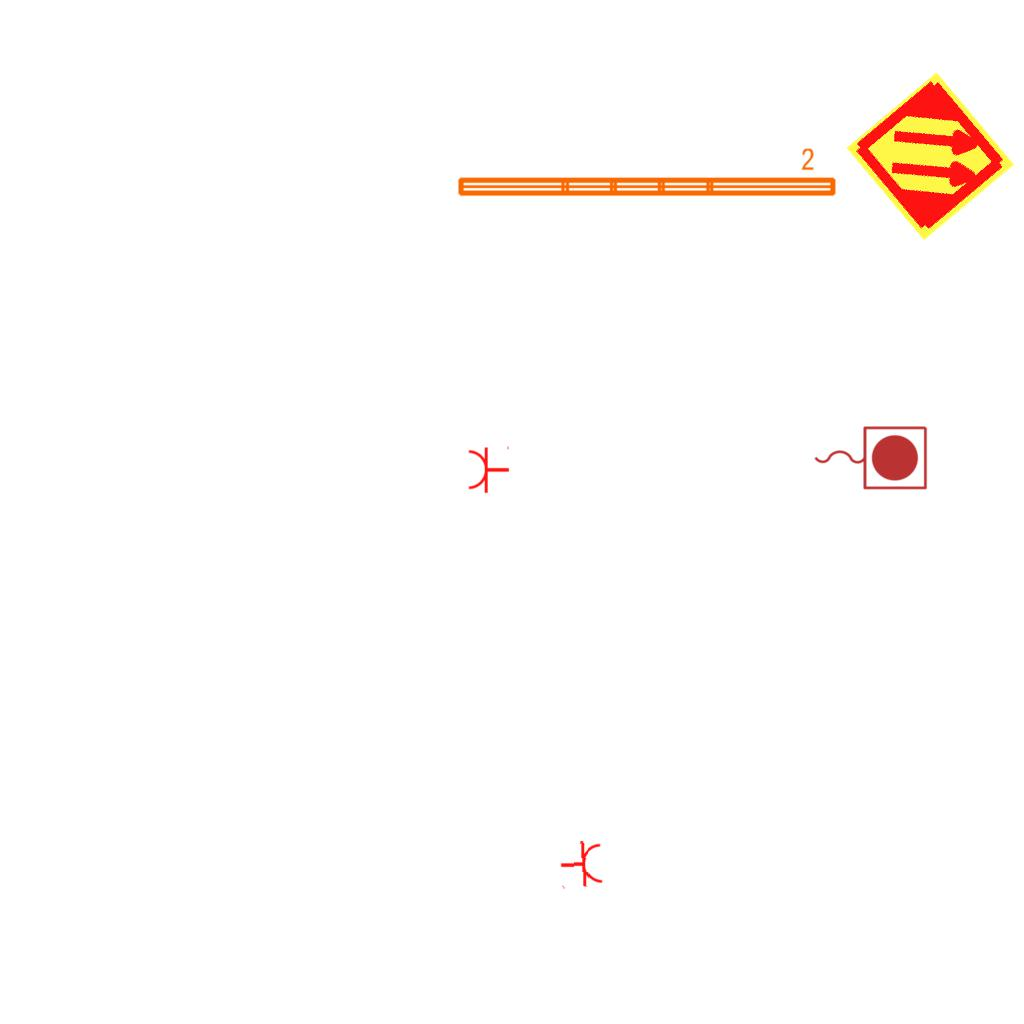ASR_Ansaugrauchmelder: (842, 68, 1019, 245)
Ambulanz_Pendelleuchte_LED: (453, 146, 840, 202)
Schukosteckdose_einfach: (558, 838, 605, 892), (467, 444, 510, 494)
Zugtaster: (809, 421, 931, 493)
